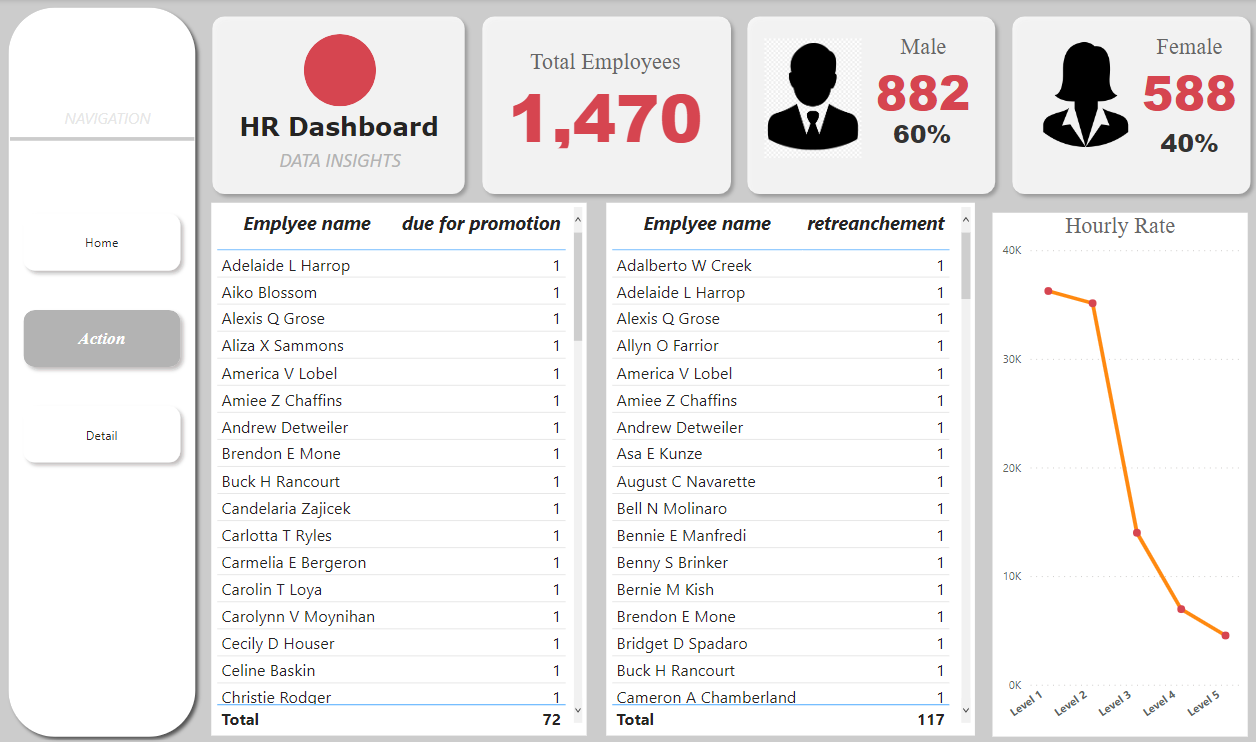

This screenshot's page, from the dashboard's own definition file:
{"tool":"powerbi","page":{"name":"Action","canvas":[1350,800],"ordinal":1},"visuals":[{"type":"shape","box":[0,0,218.8,800],"z":0},{"type":"shape","box":[218.8,10,288.8,208.8],"z":1000},{"type":"shape","box":[507.5,10,285,208.8],"z":2000},{"type":"shape","box":[792.5,10,283.8,208.8],"z":3000},{"type":"shape","box":[1076.2,10,273.8,208.8],"z":4000},{"type":"textbox","box":[225,115,276.2,50],"z":5000},{"type":"textbox","box":[213.8,155,300,40],"z":6000},{"type":"shape","box":[325,37.5,77.5,77.5],"z":7000},{"type":"card","title":"Total Employees","fields":{"Values":["All Measures.Total Emp"]},"box":[532.5,53.8,233.8,111.2],"z":8000},{"type":"card","title":"Female","fields":{"Values":["All Measures.Female"]},"box":[1212.2,37.5,125,93.8],"z":9000},{"type":"card","title":"Male","fields":{"Values":["All Measures.% female"]},"box":[1226.2,127.5,98.8,55],"z":10000},{"type":"image","box":[1086.2,31.2,153.8,143.8],"z":11000},{"type":"image","box":[806.2,37.5,128.8,137.5],"z":12000},{"type":"card","title":"Male","fields":{"Values":["All Measures.Male"]},"box":[927.4,37.2,125,93.8],"z":13000},{"type":"card","title":"Male","fields":{"Values":["All Measures.% male"]},"box":[940,118.6,98.6,55.7],"z":14000},{"type":"tableEx","fields":{"Values":["HR employee data.Emplyee name","All Measures.retreanchement"]},"box":[650,218.8,395,571.2],"z":15000},{"type":"tableEx","fields":{"Values":["HR employee data.Emplyee name","All Measures.due for promotion"]},"box":[226.2,218.8,402.5,571.2],"z":16000},{"type":"pageNavigator","box":[16.2,221.2,186.2,286.2],"z":17000},{"type":"shape","box":[11.2,0,197.5,300],"z":18000},{"type":"textbox","box":[58.8,111.2,112.5,31.2],"z":19000},{"type":"lineChart","title":"Hourly Rate","fields":{"Y":["HR Analytics Data.HourlyRate"],"Category":["HR Analytics Data.Job Level"]},"box":[1063.8,228.8,273.8,561.2],"z":20000}]}

Visuals, with their boxes on the page's 1350x800 design canvas (x1, y1, x2, y2). These are canvas units, not pixel positions in the 1256x742 screenshot, which may show the page scaled, cropped or inside an application window:
shape: (0, 0, 219, 800)
shape: (219, 10, 508, 219)
shape: (508, 10, 792, 219)
shape: (792, 10, 1076, 219)
shape: (1076, 10, 1350, 219)
textbox: (225, 115, 501, 165)
textbox: (214, 155, 514, 195)
shape: (325, 38, 402, 115)
"Total Employees" card: (532, 54, 766, 165)
"Female" card: (1212, 38, 1337, 131)
"Male" card: (1226, 128, 1325, 182)
image: (1086, 31, 1240, 175)
image: (806, 38, 935, 175)
"Male" card: (927, 37, 1052, 131)
"Male" card: (940, 119, 1039, 174)
tableEx - HR employee data.Emplyee name x All Measures.retreanchement: (650, 219, 1045, 790)
tableEx - HR employee data.Emplyee name x All Measures.due for promotion: (226, 219, 629, 790)
pageNavigator: (16, 221, 202, 507)
shape: (11, 0, 209, 300)
textbox: (59, 111, 171, 142)
"Hourly Rate" lineChart: (1064, 229, 1338, 790)
